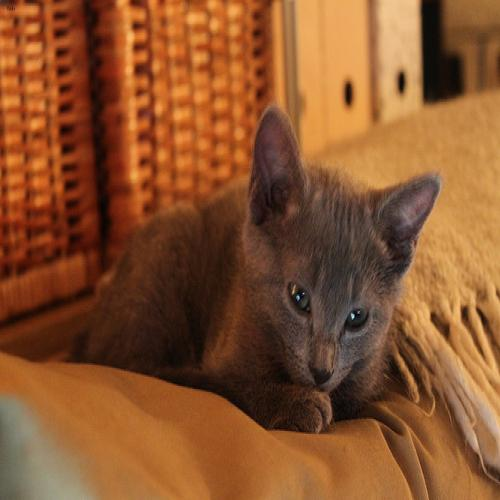rblue: (247, 101, 444, 398)
